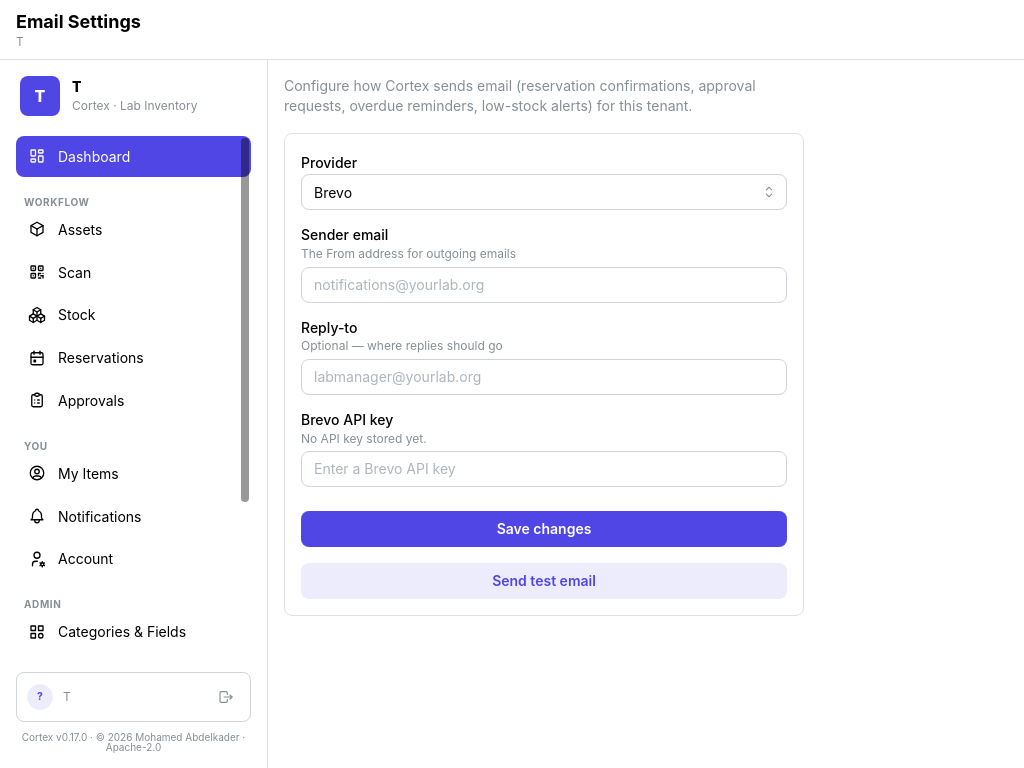
Test: EmailSettingsScreen › surfaces a field validation error from the server on save
This screenshot has width=1024, height=768.
Click the button with test id "email-settings-submit" at (544, 529), box [301,511,787,547]
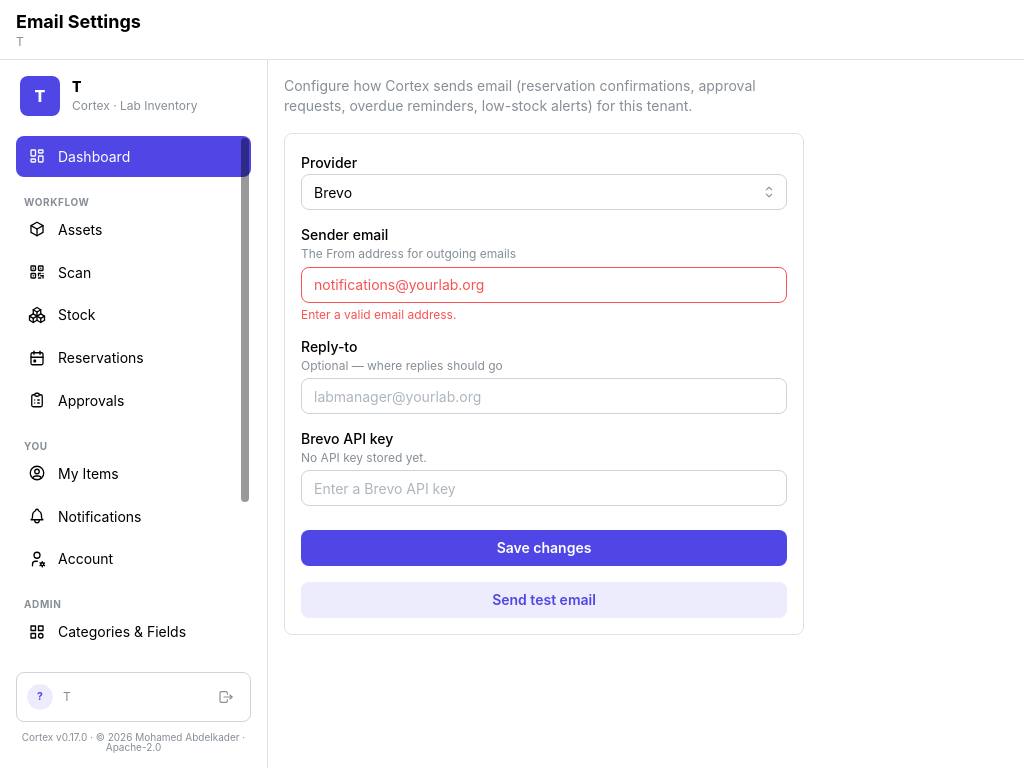
expect the text "Enter a valid email address." is shown: met, box [301,307,456,322]
